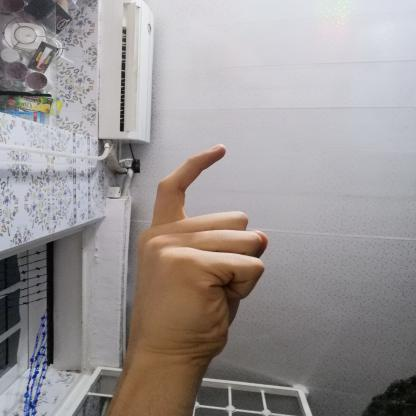RAA: (112, 132, 278, 373)
